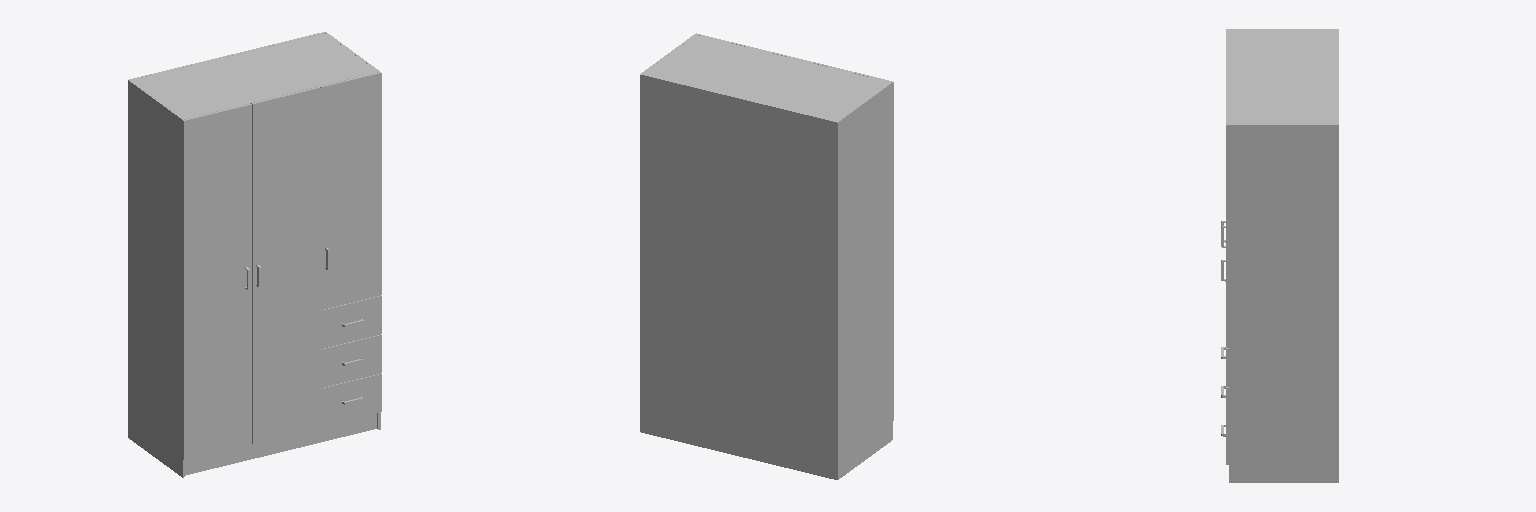
File: loftcomplecs.obj
The picture shows the model from 3 angles: view 1: azimuth 30°, elevation 25°; view 2: azimuth 150°, elevation 25°; view 3: azimuth 270°, elevation 25°; orthographic projection.
Visible parts, largest first — view 1: Куб; view 2: Куб; view 3: Куб.
Boxes of the visible parts, <box> form: Куб: <box>128,32,381,477</box>; Куб: <box>640,33,893,479</box>; Куб: <box>1226,29,1338,482</box>.
Size of the model in its own units: 2.34 by 4.03 by 1.2.